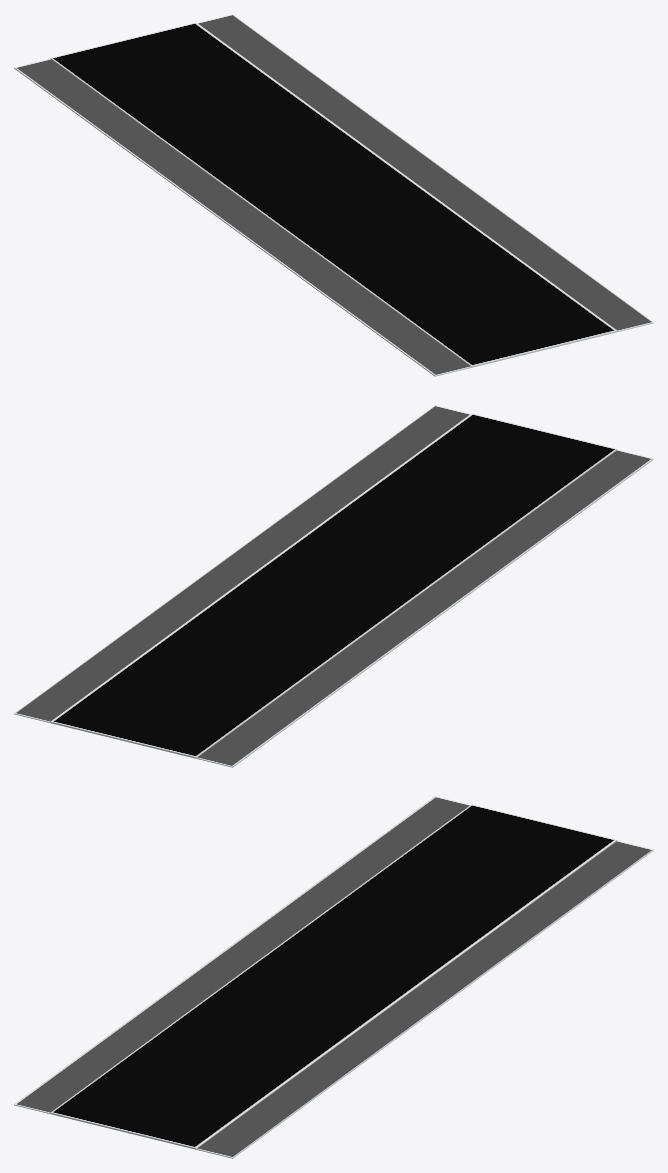
The model's file is RoadStraight01.obj.
The picture shows the model from 3 angles, top to bottom: view 1: azimuth 30°, elevation 25°; view 2: azimuth 150°, elevation 25°; view 3: azimuth 330°, elevation 25°; orthographic projection.
Parts seen in each view (by area): view 1: Cube1, Cube2; view 2: Cube1, Cube2; view 3: Cube1, Cube2.
Boxes of the visible parts, x1,y1,x2,y2 form: Cube1: (50,22,617,366); Cube2: (14,14,653,376); Cube1: (50,413,617,757); Cube2: (14,405,653,767); Cube1: (50,804,617,1148); Cube2: (14,796,653,1158).
Bounding box in the file's own units: 30 × 0.2 × 100.
Materials: 3 (2 with a texture image).
